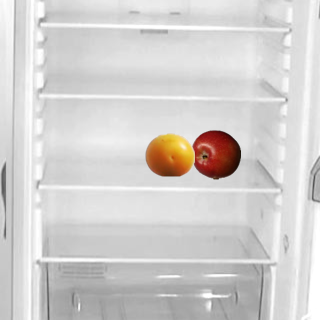Apple Braeburn: (190, 129, 240, 179)
Cherry Wax Yellow: (144, 129, 194, 179)
